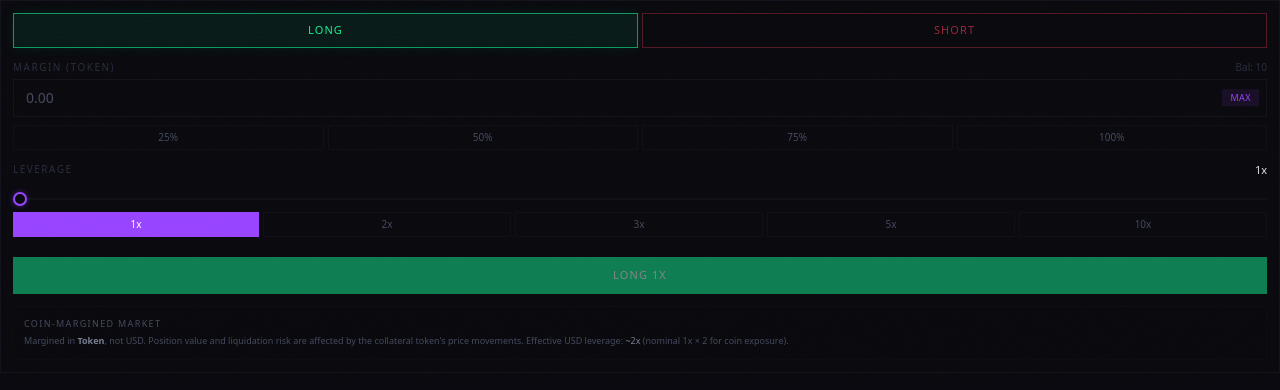
it: TradeForm Component Tests › TRADE-007: Invalid amount rejected › should disable submit button when input is invalid
Check: the button "Long 1x" is disabled, box x1=13 y1=257 x2=1267 y2=294
Valid input should enable button
In the field with placeholder "0.00": (640,98) x1=13 y1=78 x2=1267 y2=116, type "5"
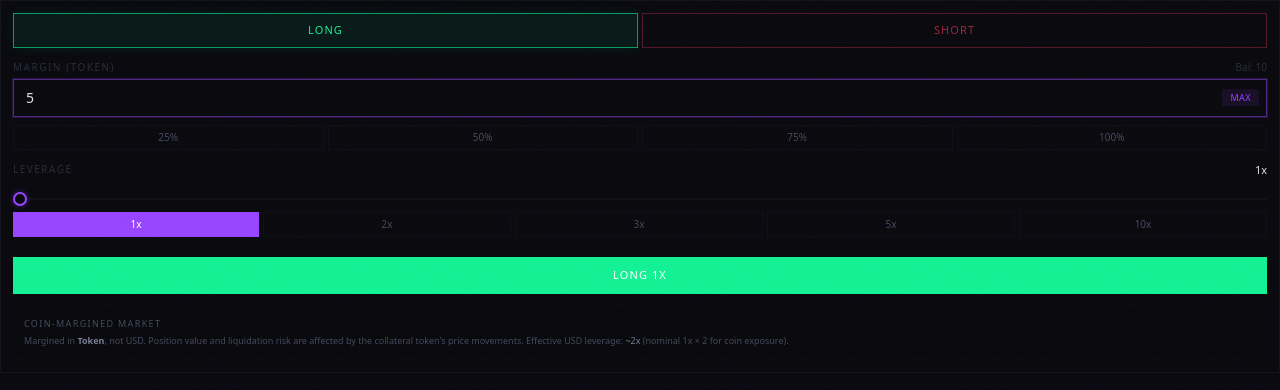
Check: the button "Long 1x" is enabled, box x1=13 y1=257 x2=1267 y2=294
Clear input should disable again
Clear the field with placeholder "0.00": (640,98) x1=13 y1=78 x2=1267 y2=116
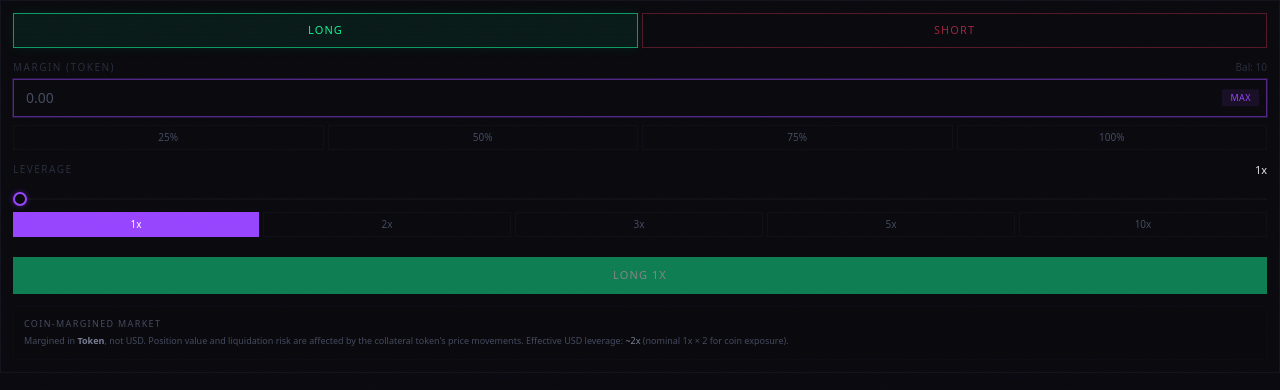
Check: the button "Long 1x" is disabled, box x1=13 y1=257 x2=1267 y2=294
